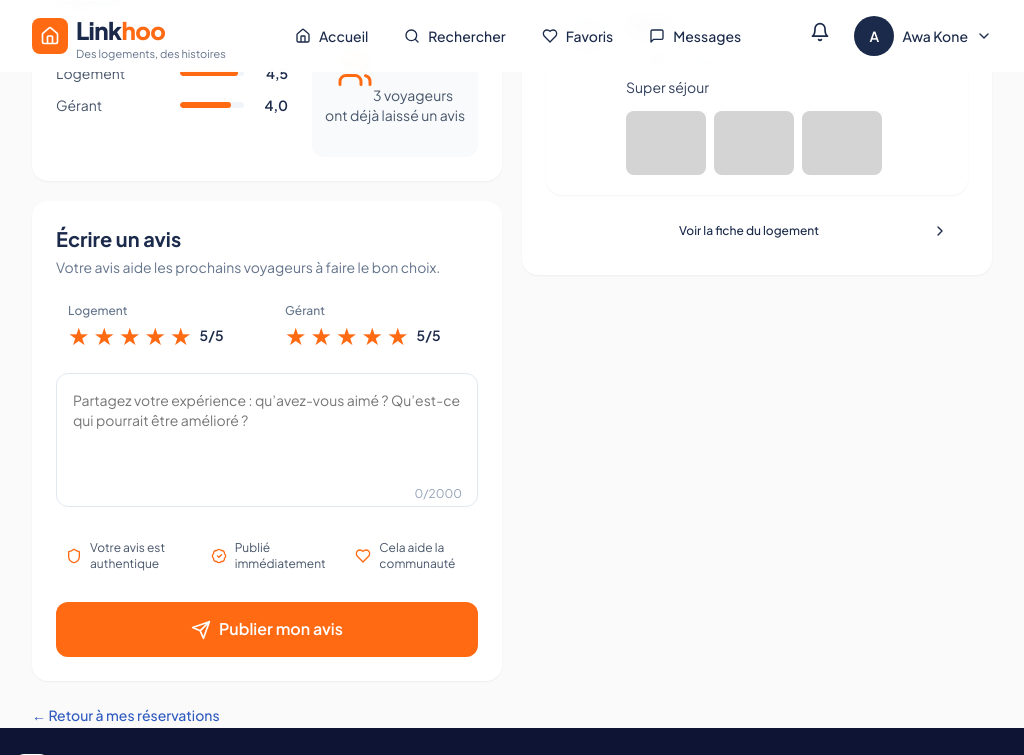
Scenario: LaisserAvisPage — avis du logement › refuse un commentaire trop court
(page scrolled)
Replace the text in the text box with placeholder "Partagez votre expérience : qu’avez-vous aimé ? Qu’est-ce qui pourrait être amélioré ?" with "Court": (267, 440) [56,373,478,507]
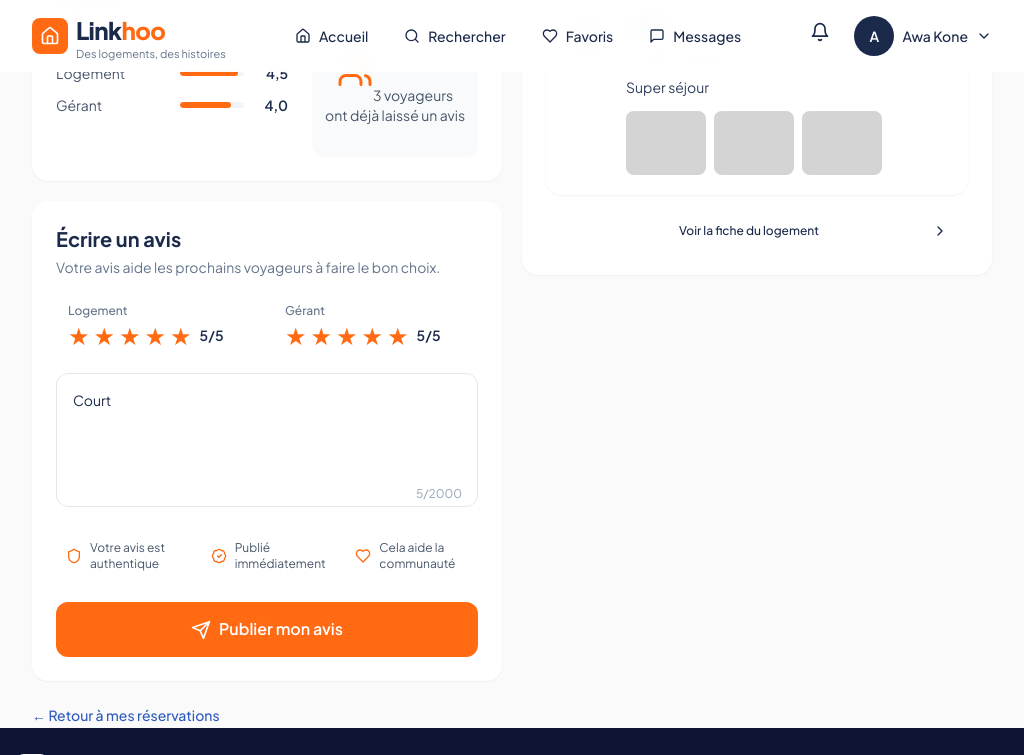
Click the button "Publier mon avis": (267, 630) [56,602,478,657]
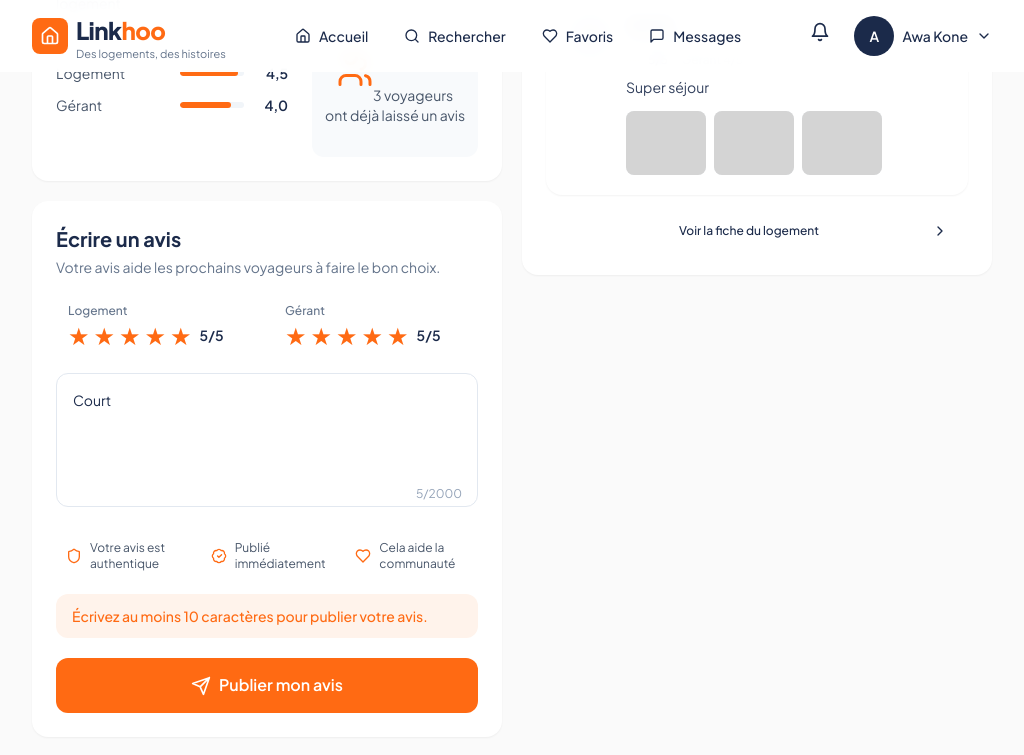
Result: the text "Écrivez au moins 10 caractères pour publier votre avis." is shown at [56,594,478,638]
